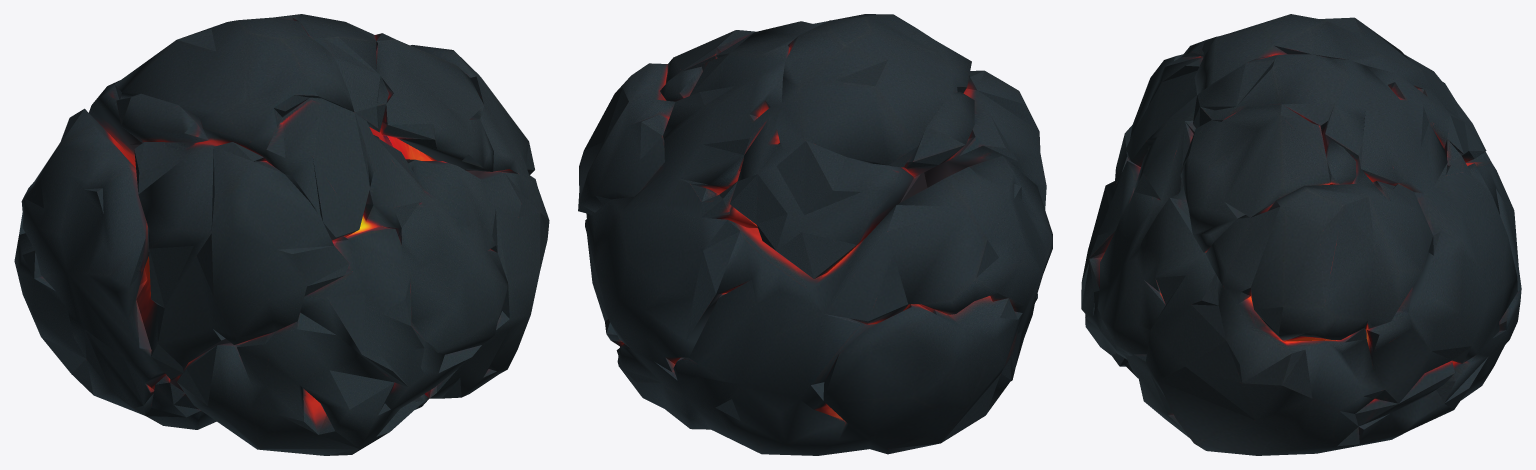
The model's file is modelo.fbx.
3 renders of one model, left to right at view 1: azimuth 30°, elevation 25°; view 2: azimuth 150°, elevation 25°; view 3: azimuth 270°, elevation 25°, orthographic. The views are drawn at different scales.
Visible parts, largest first — view 1: Mesh_0; view 2: Mesh_0; view 3: Mesh_0.
Part boxes in pixels (<box>): Mesh_0: <box>14,14,549,455</box>; Mesh_0: <box>578,14,1052,455</box>; Mesh_0: <box>1081,14,1521,455</box>.
Size of the model in its own units: 189 by 138 by 160.
1 material, 1 textured.
